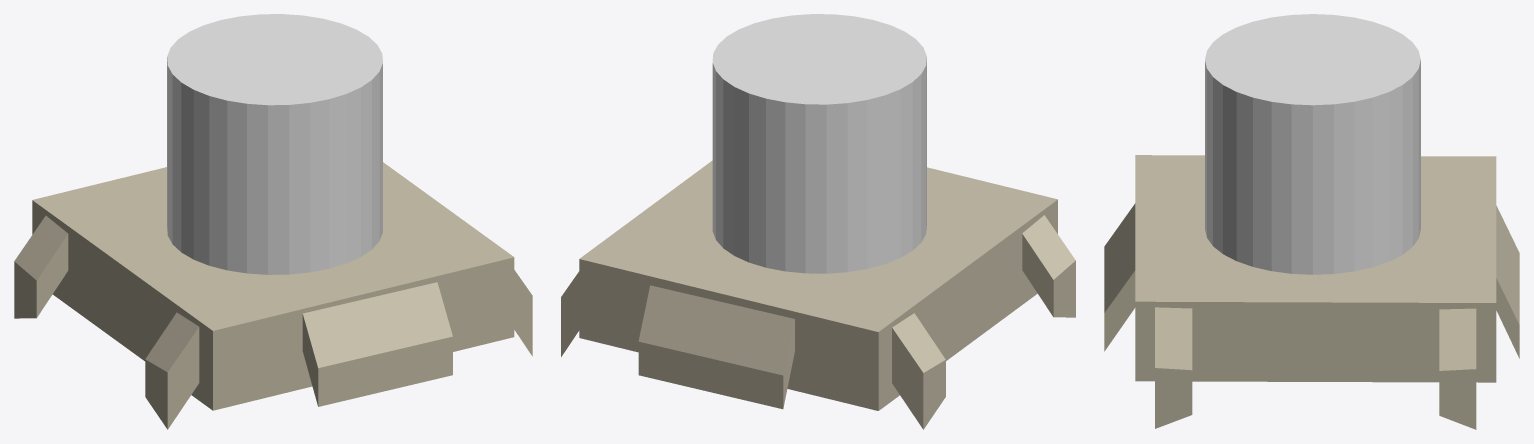
The model's file is BUTTON.fbx.
3 renders of one model, left to right at view 1: azimuth 30°, elevation 25°; view 2: azimuth 150°, elevation 25°; view 3: azimuth 270°, elevation 25°, orthographic.
Parts seen in each view (by area): view 1: Button; view 2: Button; view 3: Button.
Boxes of the visible parts, box(x1,y1,x2,y2) form: Button: box(14, 14, 532, 429); Button: box(561, 14, 1075, 429); Button: box(1104, 14, 1519, 429).
Size of the model in its own units: 1120 by 841 by 1117.
